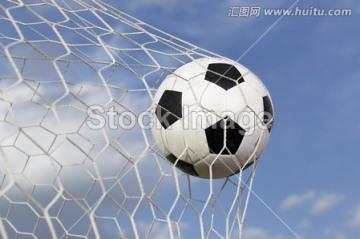football: (156, 52, 276, 181)
